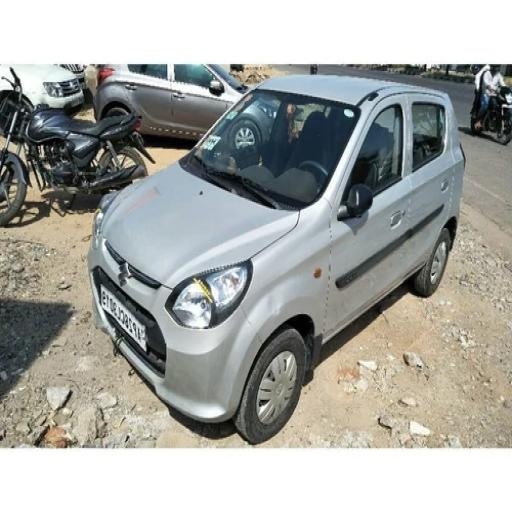License: (100, 280, 149, 358)
